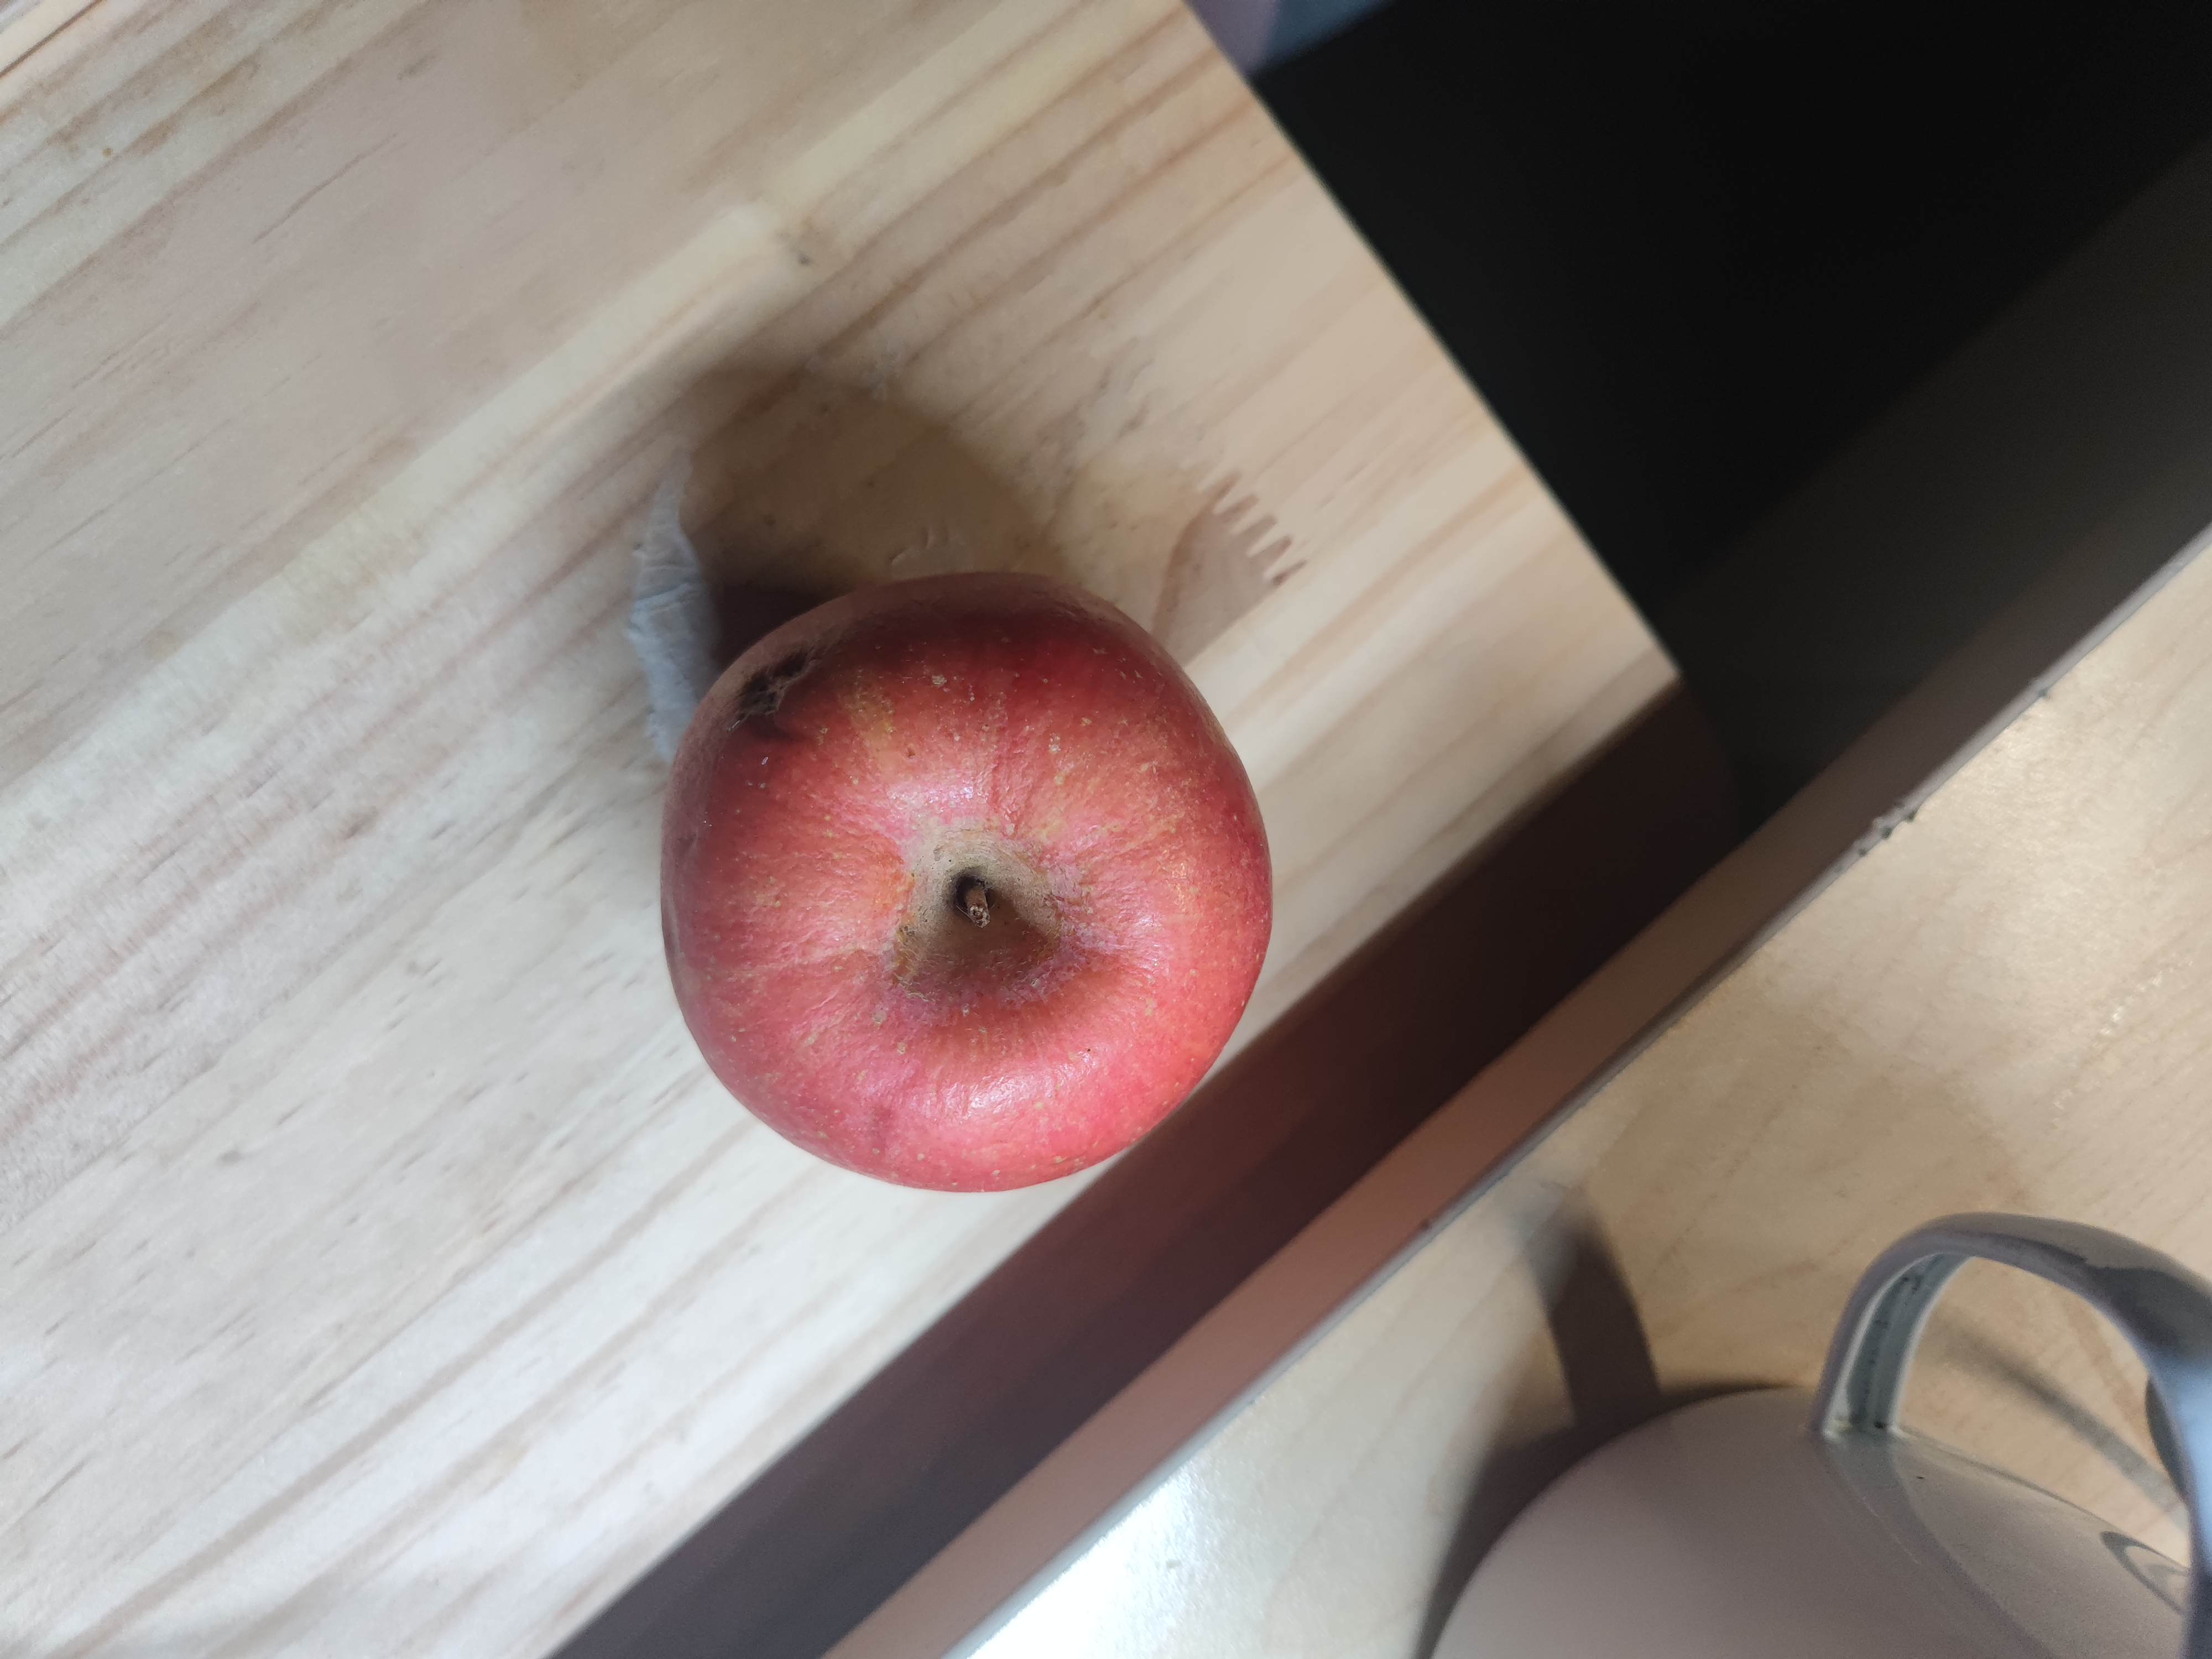apple: (657, 566, 1280, 1197)
